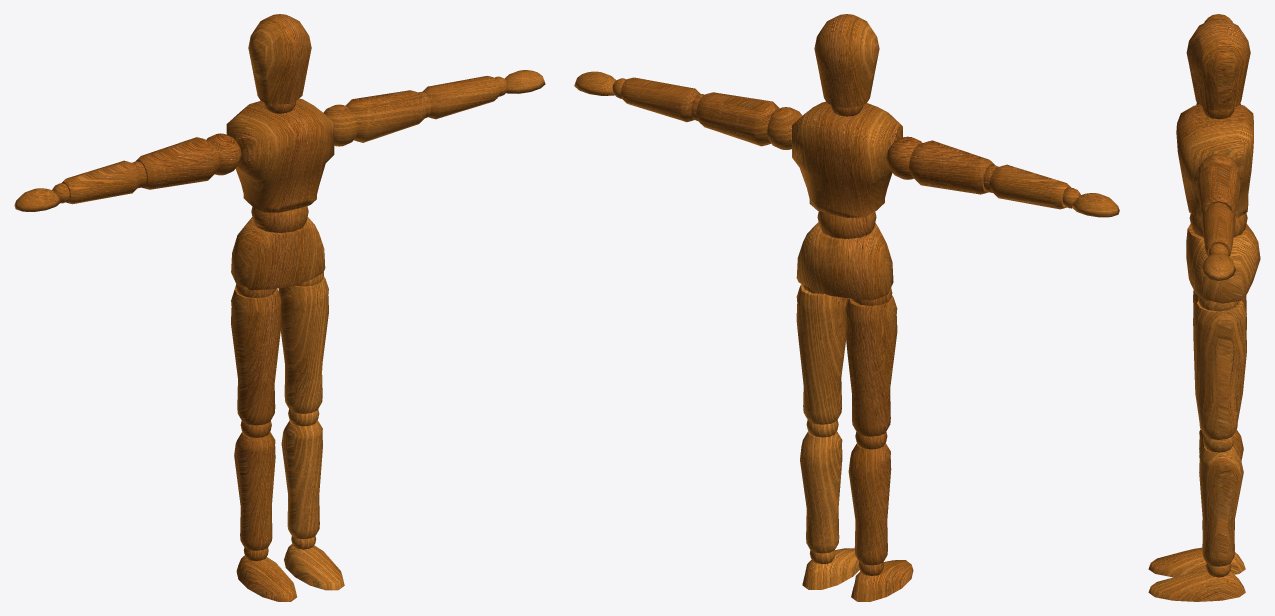
Rendered from dummy.glb.
3 renders of one model, left to right at view 1: azimuth 30°, elevation 25°; view 2: azimuth 150°, elevation 25°; view 3: azimuth 270°, elevation 25°, orthographic. The views are drawn at different scales.
Visible parts, largest first — view 1: dummy_obj; view 2: dummy_obj; view 3: dummy_obj.
Part boxes in pixels (x1,y1,x2,y2): dummy_obj: (14, 14, 545, 601); dummy_obj: (574, 14, 1119, 601); dummy_obj: (1148, 14, 1260, 601).
Bounding box in the file's own units: 10.48 × 10.49 × 1.9.
Materials: 1 (1 with a texture image).
